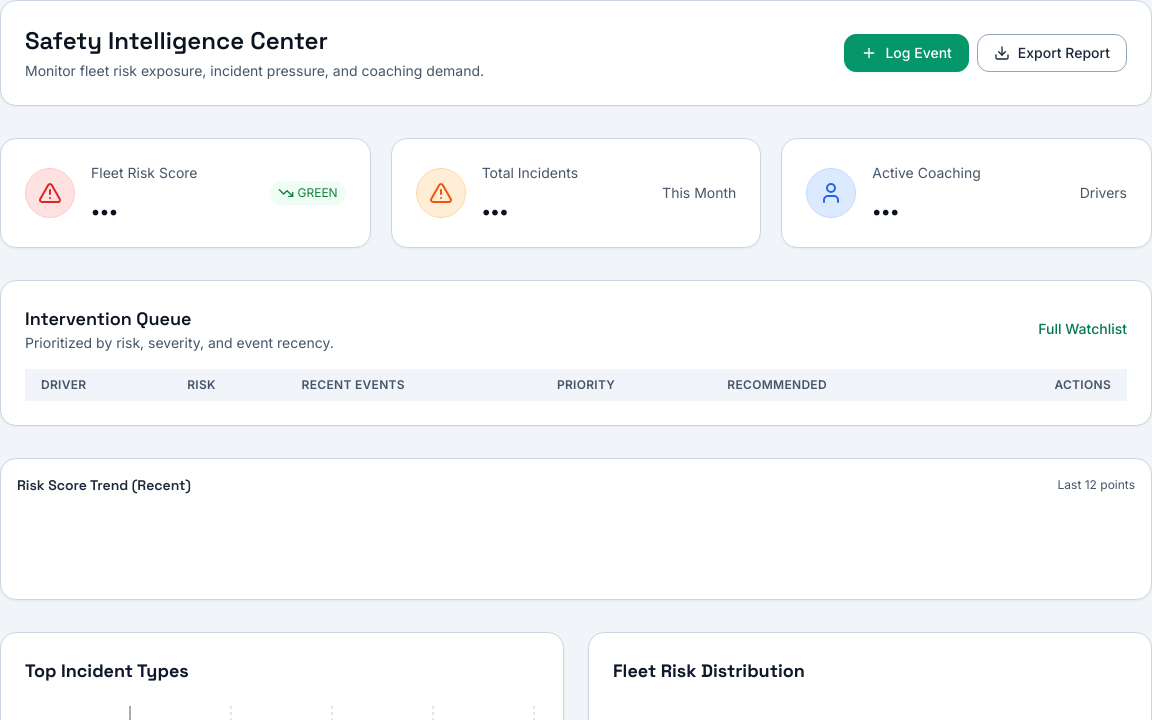
Test: Safety page › allows safety users to open the risk logging flow
expect the heading "Safety Intelligence Center" is shown: met, box [25,25,328,56]
Click the button "Log Event".
click(907, 53)  # box [844,34,969,72]
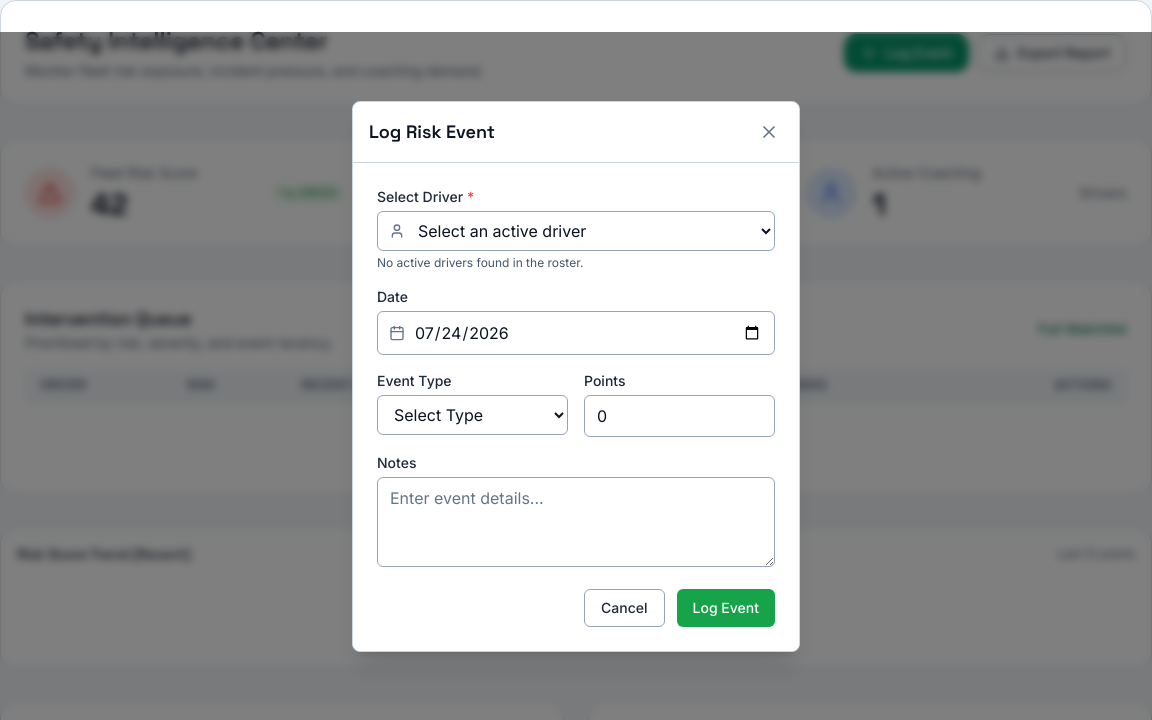
expect the dialog "Log Risk Event" is shown: met, box [352,100,800,652]
